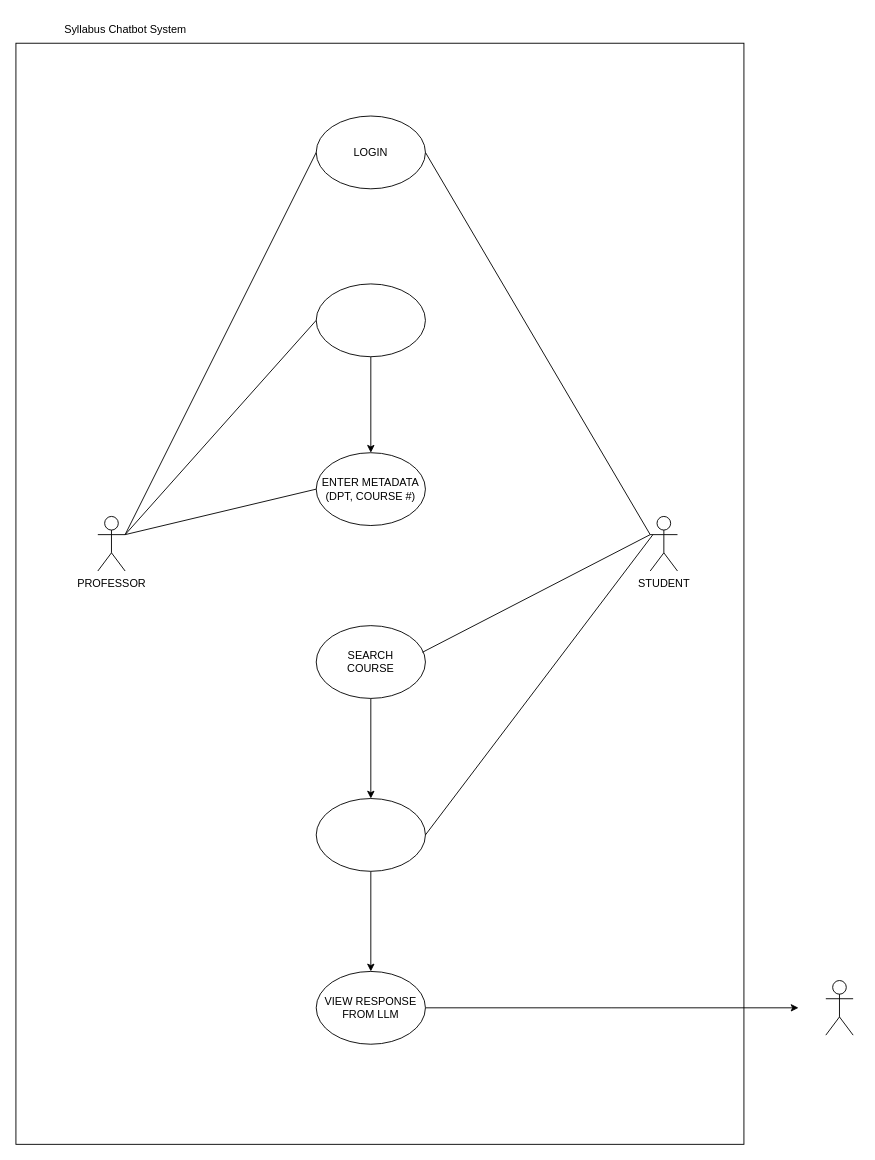
Image size: 875x1160. Some labels were removed from this diagram. Each missing label, with the centre of its shape:
ASK NATURAL LANGUAGE QUESTIONS: pixel 370 834
LLM API: pixel 839 1007
UPLOAD SYLLABUS PDF: pixel 370 320
